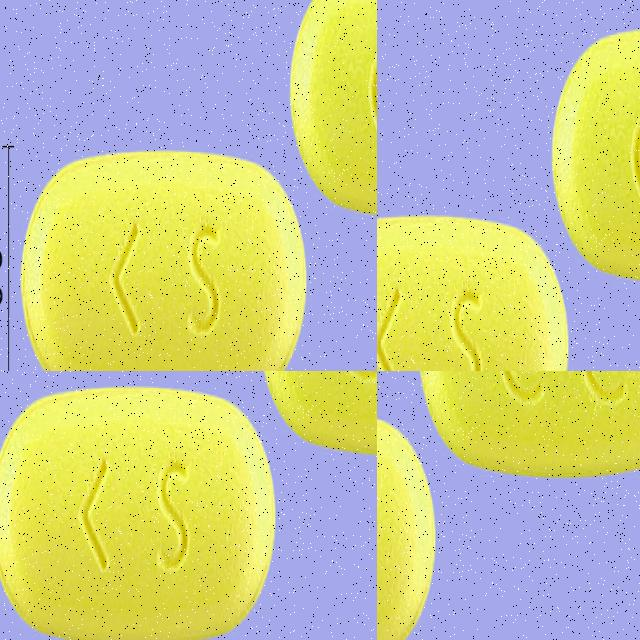Cephamethyl Tab: (0, 371, 280, 640)
Claxin - 500mg: (377, 304, 634, 371)
Clomycin: (20, 160, 315, 371), (283, 0, 377, 195)
Clribio: (419, 371, 640, 472)
